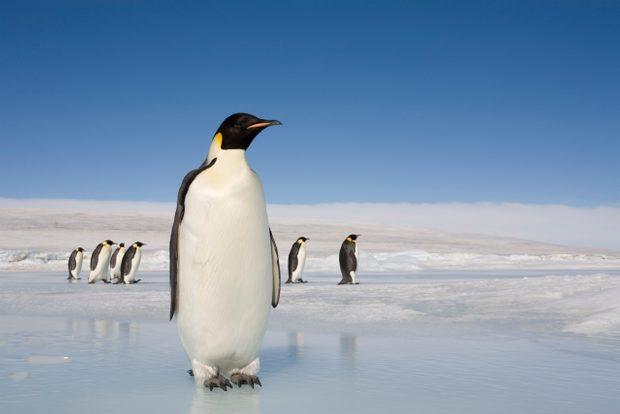emporer: (149, 101, 311, 389)
